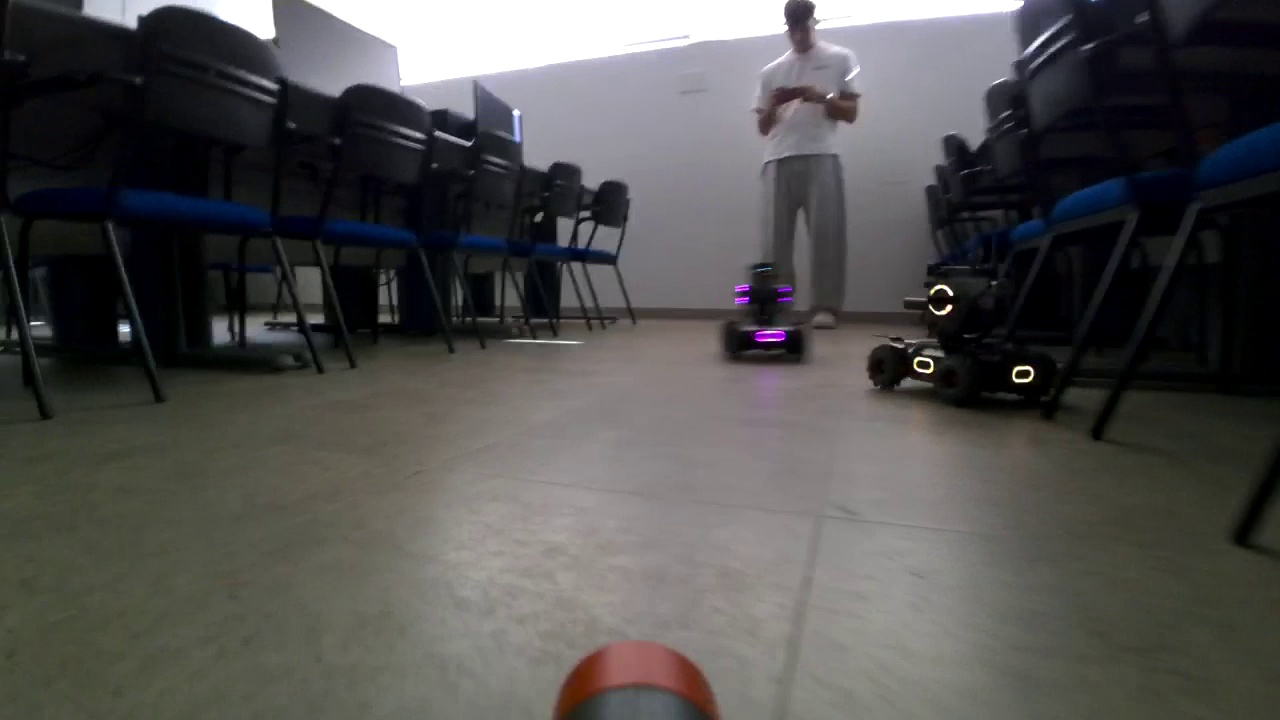robot: (866, 255, 1062, 409), (721, 262, 808, 360)
